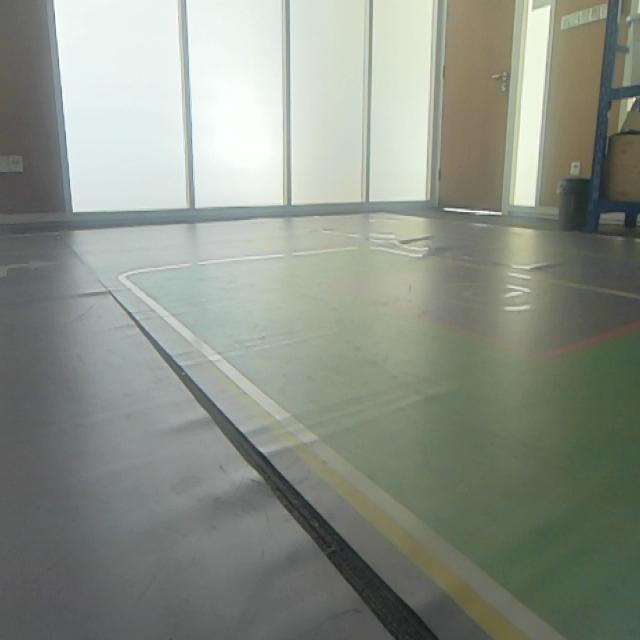right_lane: (121, 280, 570, 640)
